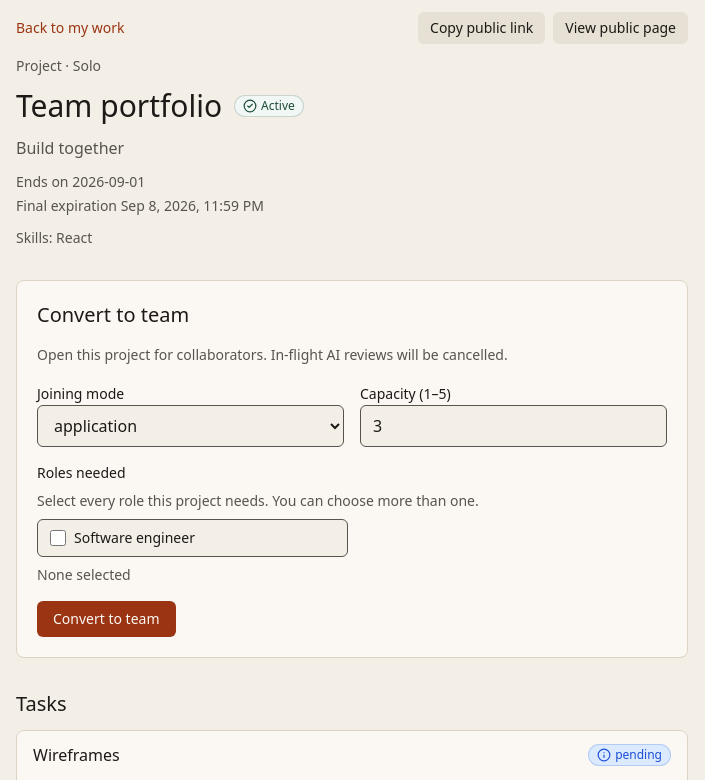
Test case: ProjectDetailPage › shows convert to team messaging and AI review blocked note
Expected: the heading "Convert to team" is shown, top-left (37, 301), bottom-right (189, 328)
Expected: the text "In-flight AI reviews will be cancelled" is shown, top-left (37, 345), bottom-right (508, 364)
What coordinates should you click on to do the following:
click the checkbox labelled "Software engineer"
I would click on:
 (58, 538)
Its box is top-left (50, 530), bottom-right (66, 546).
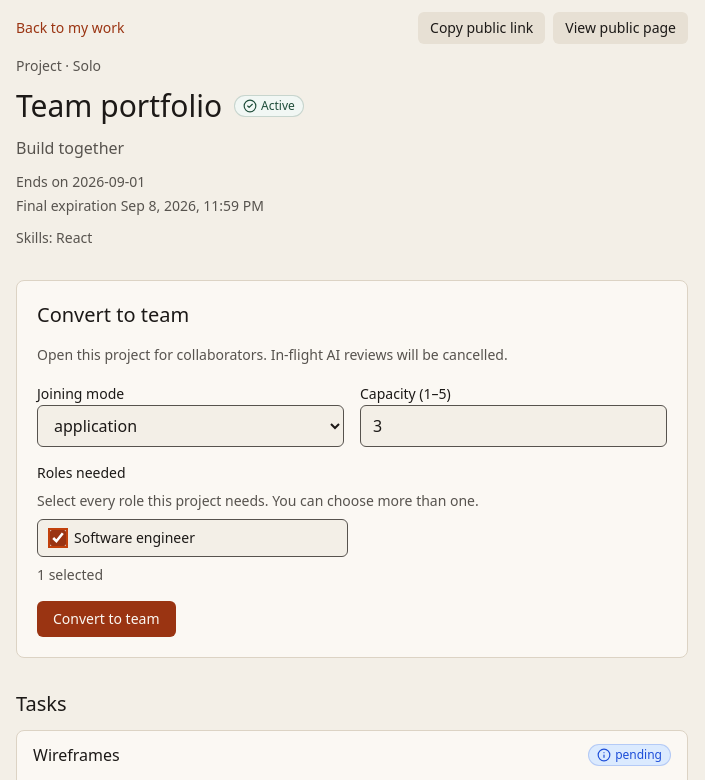
What coordinates should you click on to do the following:
click the button "Convert to team"
I would click on:
 (106, 619)
Its box is top-left (37, 601), bottom-right (176, 637).
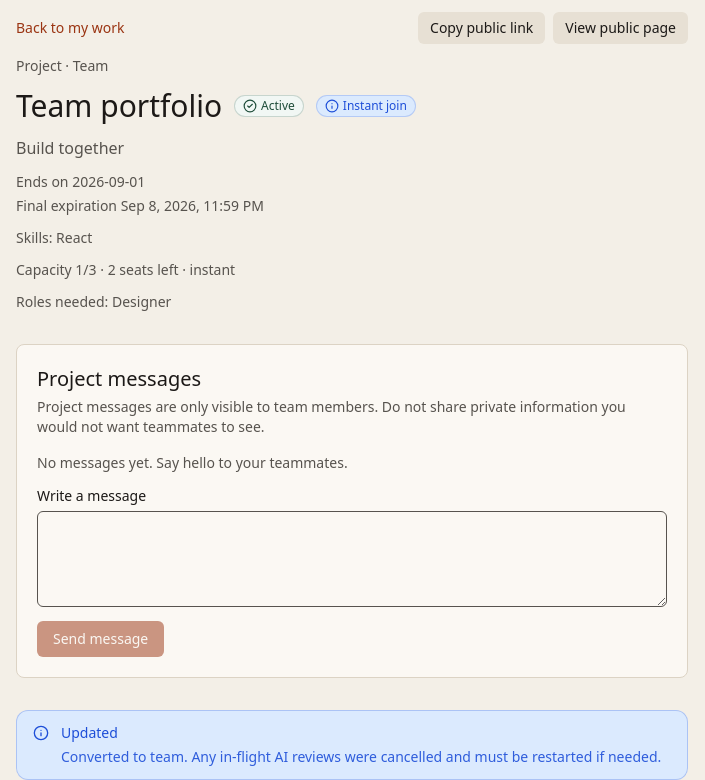
Expected: the text "Any in-flight AI reviews were cancelled" is shown, top-left (61, 747), bottom-right (661, 766)
